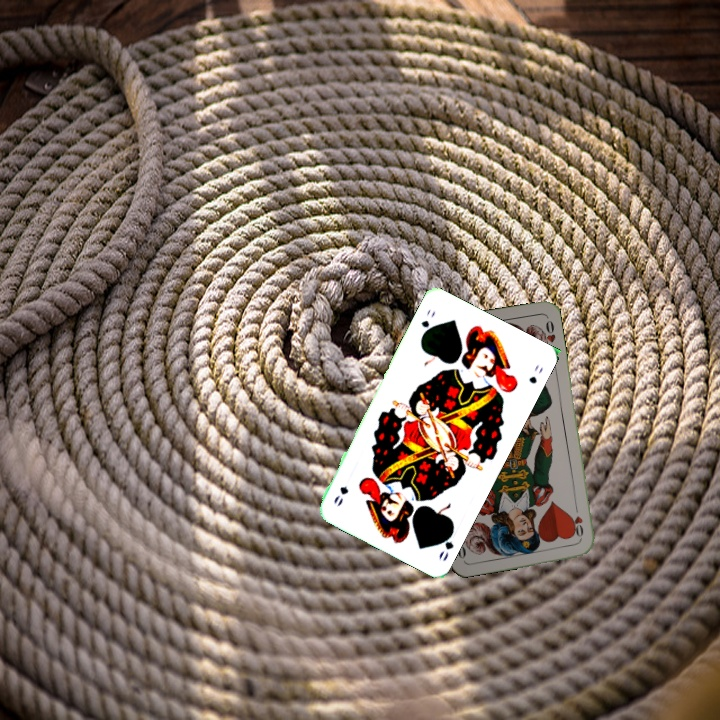GO: (435, 524, 457, 564), (417, 305, 438, 341)
HO: (570, 501, 586, 542)
